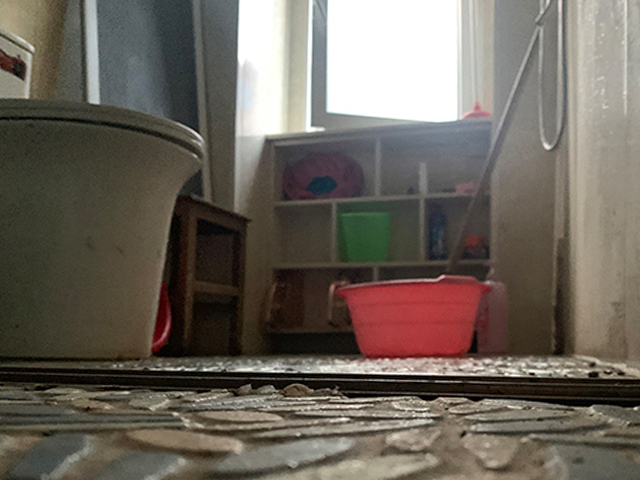closestool: (1, 27, 205, 362)
stool: (172, 192, 254, 357)
